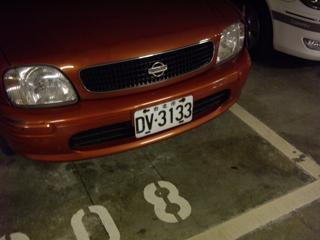plate: (133, 98, 193, 134)
